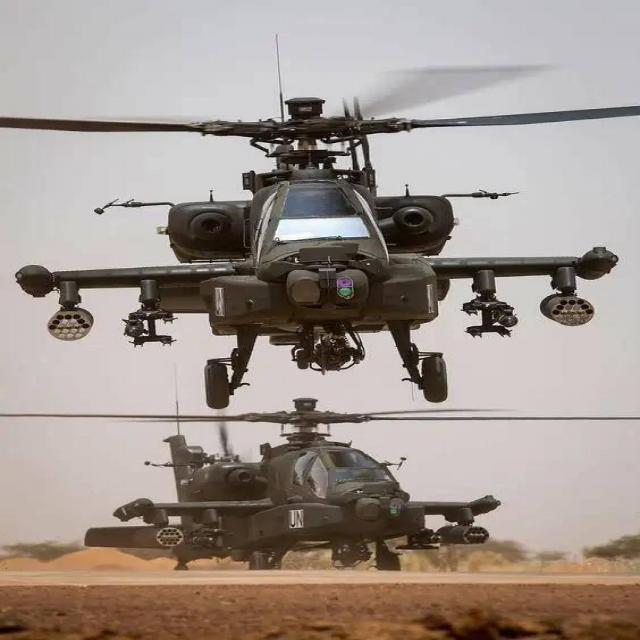MIL_HELO: (0, 56, 640, 414), (0, 395, 608, 575)
